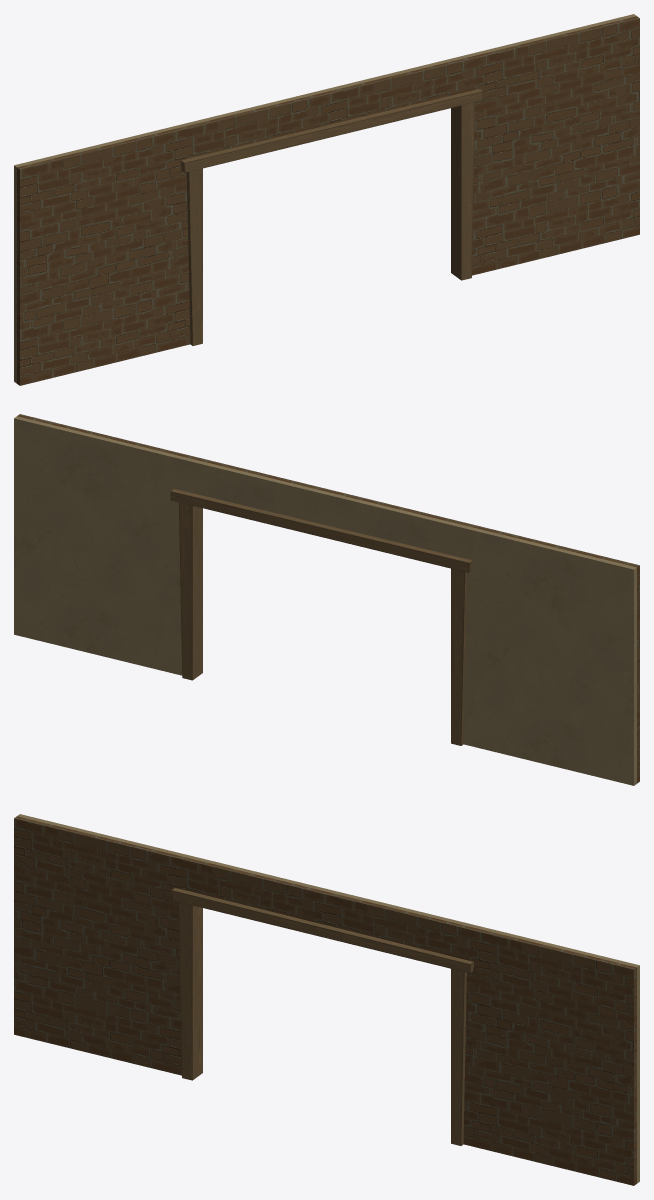
File: SM_building_wall_31.glb
3 views of the same model, one above another, from view 1: azimuth 30°, elevation 25°; view 2: azimuth 150°, elevation 25°; view 3: azimuth 330°, elevation 25° (orthographic).
Visible parts, largest first — view 1: SM_building_wall_31; view 2: SM_building_wall_31; view 3: SM_building_wall_31.
Part boxes in pixels (x1=…): SM_building_wall_31: x1=14, y1=14, x2=639, y2=385; SM_building_wall_31: x1=14, y1=414, x2=639, y2=785; SM_building_wall_31: x1=14, y1=814, x2=639, y2=1185.
Size of the model in its own units: 12 by 4 by 0.4362.
Materials: 3 (3 with a texture image).
